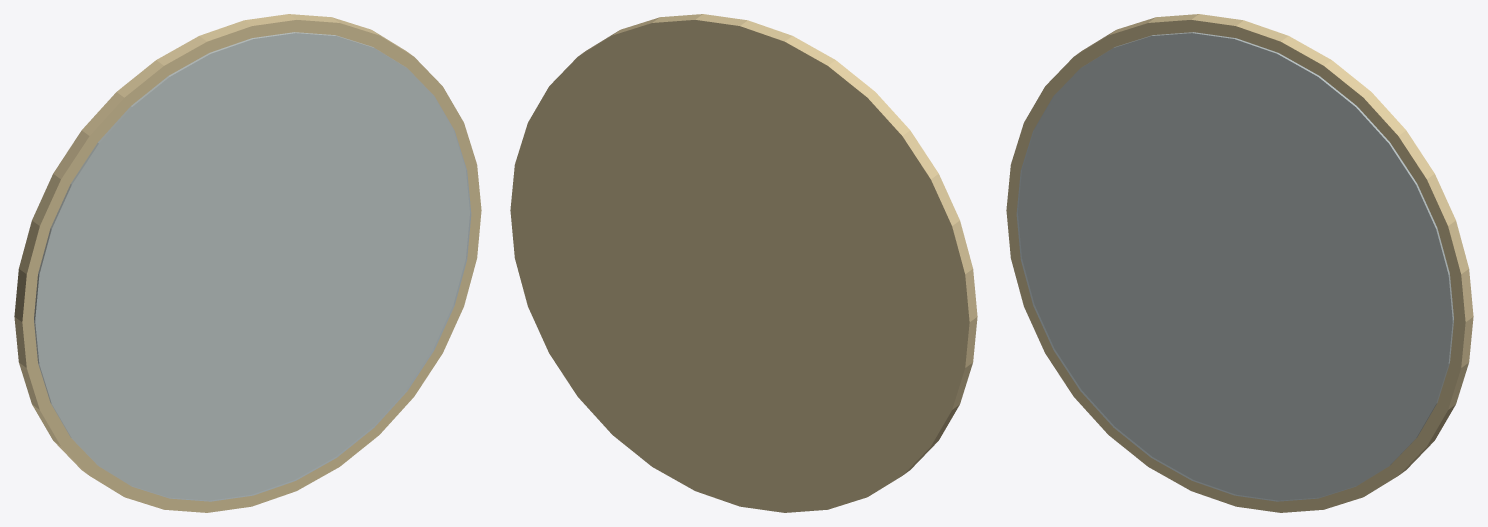
The model's file is espelho_redondo_100.glb.
3 renders of one model, left to right at view 1: azimuth 30°, elevation 25°; view 2: azimuth 150°, elevation 25°; view 3: azimuth 330°, elevation 25°, orthographic.
Visible parts, largest first — view 1: espelho_redondo_100; view 2: espelho_redondo_100; view 3: espelho_redondo_100.
Part boxes in pixels (x1,y1,x2,y2): espelho_redondo_100: [14, 14, 481, 512]; espelho_redondo_100: [510, 14, 977, 512]; espelho_redondo_100: [1006, 14, 1473, 512].
Size of the model in its own units: 1 by 1 by 0.035.
